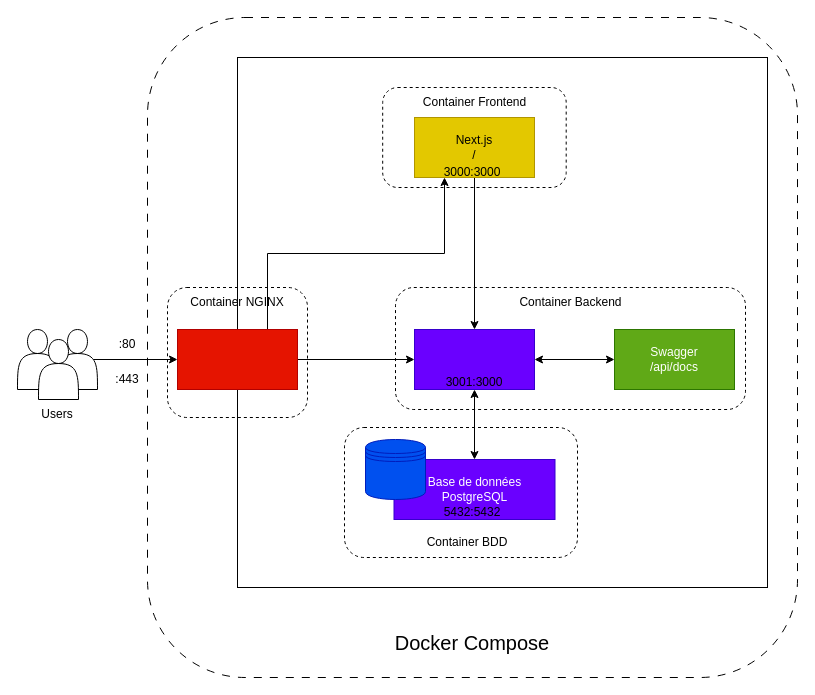
This 815x695 diagram has some shape labels left out. The shapes that lost their labels are listed below. From the top down, each one's box as (x1, y1, x2, y2) in pixels, then its label:
(176, 328, 298, 390): Reverse-Proxy NGINX
(414, 328, 534, 390): Express.js /api
